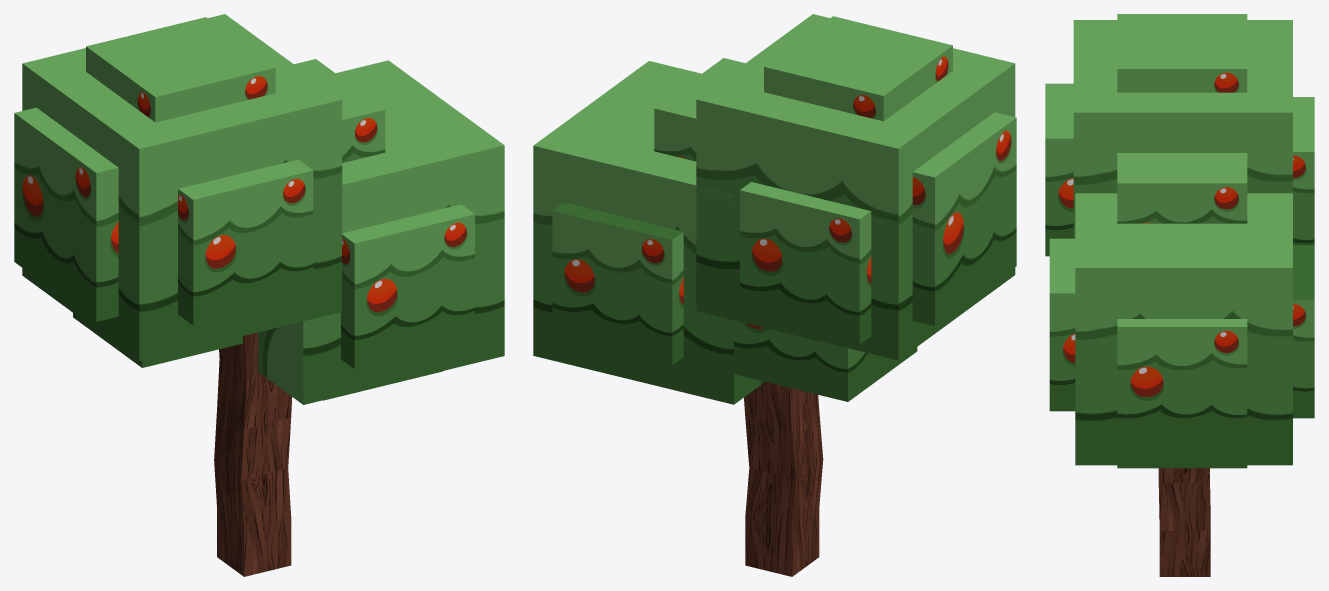
Rendered from Tree5@Model.fbx.
3 renders of one model, left to right at view 1: azimuth 30°, elevation 25°; view 2: azimuth 150°, elevation 25°; view 3: azimuth 270°, elevation 25°, orthographic. The views are drawn at different scales.
Visible parts, largest first — view 1: Tree5; view 2: Tree5; view 3: Tree5.
Boxes of the visible parts, x1=… form: Tree5: x1=14, y1=14, x2=504, y2=576; Tree5: x1=533, y1=14, x2=1016, y2=576; Tree5: x1=1045, y1=14, x2=1314, y2=576.
Bounding box in the file's own units: 434 × 534 × 266.
